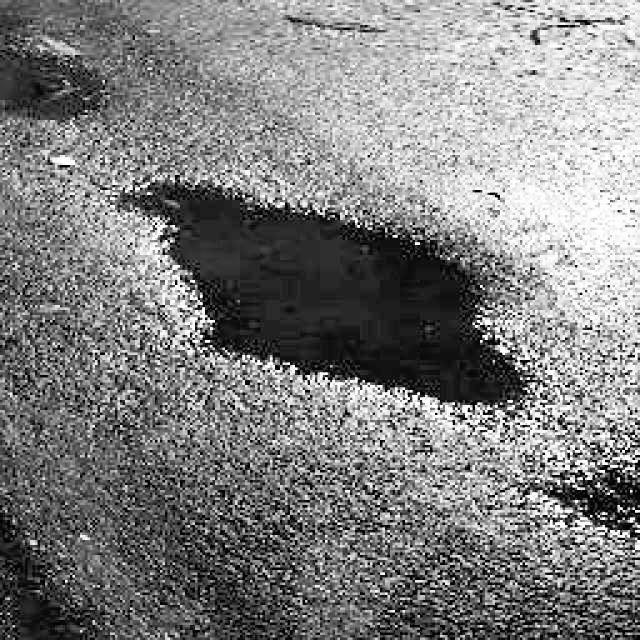Pothole: (102, 154, 546, 429)
